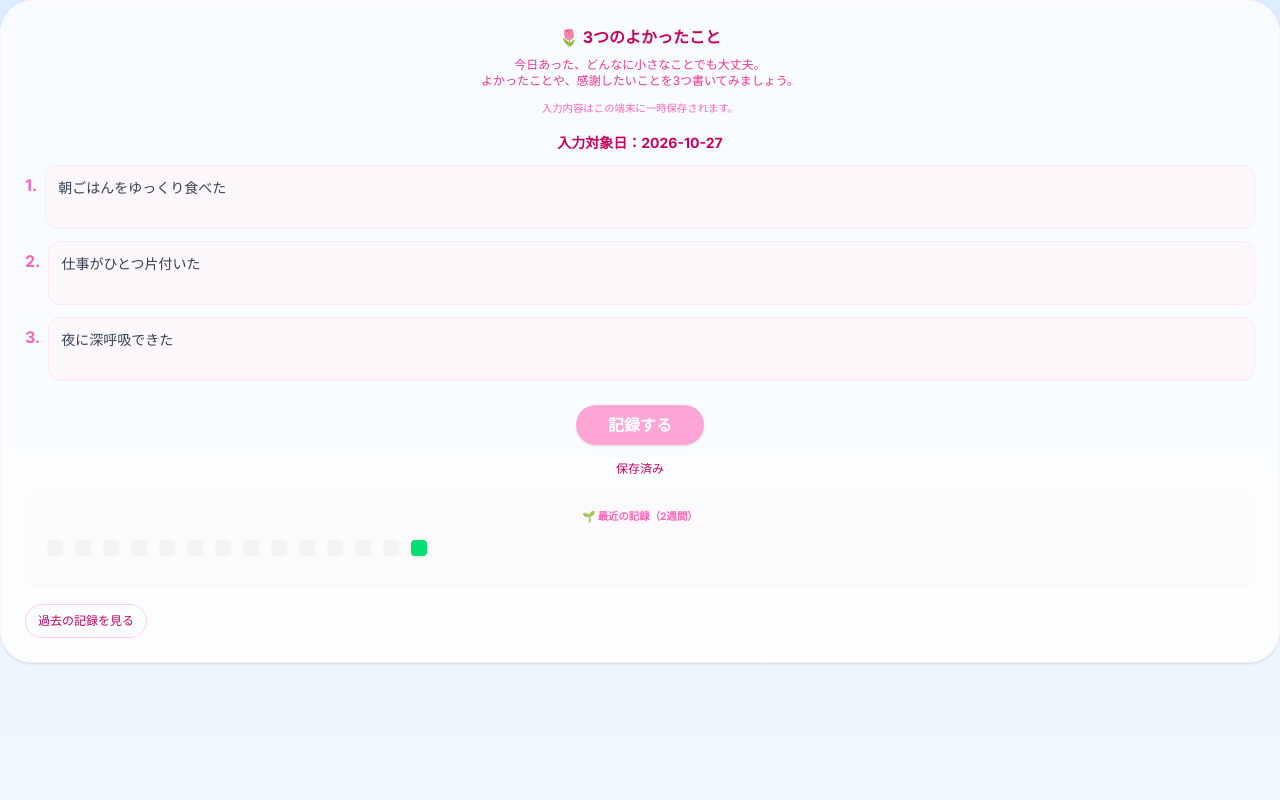
ThreeGoodThingsCard › 取得成功時に今日の記録を入力欄と詳細へ表示する
Expected: the text box named "1つ目のよかったこと" holds "朝ごはんをゆっくり食べた", [45,165,1255,229]
Expected: the text box named "2つ目のよかったこと" holds "仕事がひとつ片付いた", [48,241,1255,305]
Click the button named "2026-10-27、記録あり、詳細を開く". click: (419, 548)
box: [407,536,431,560]
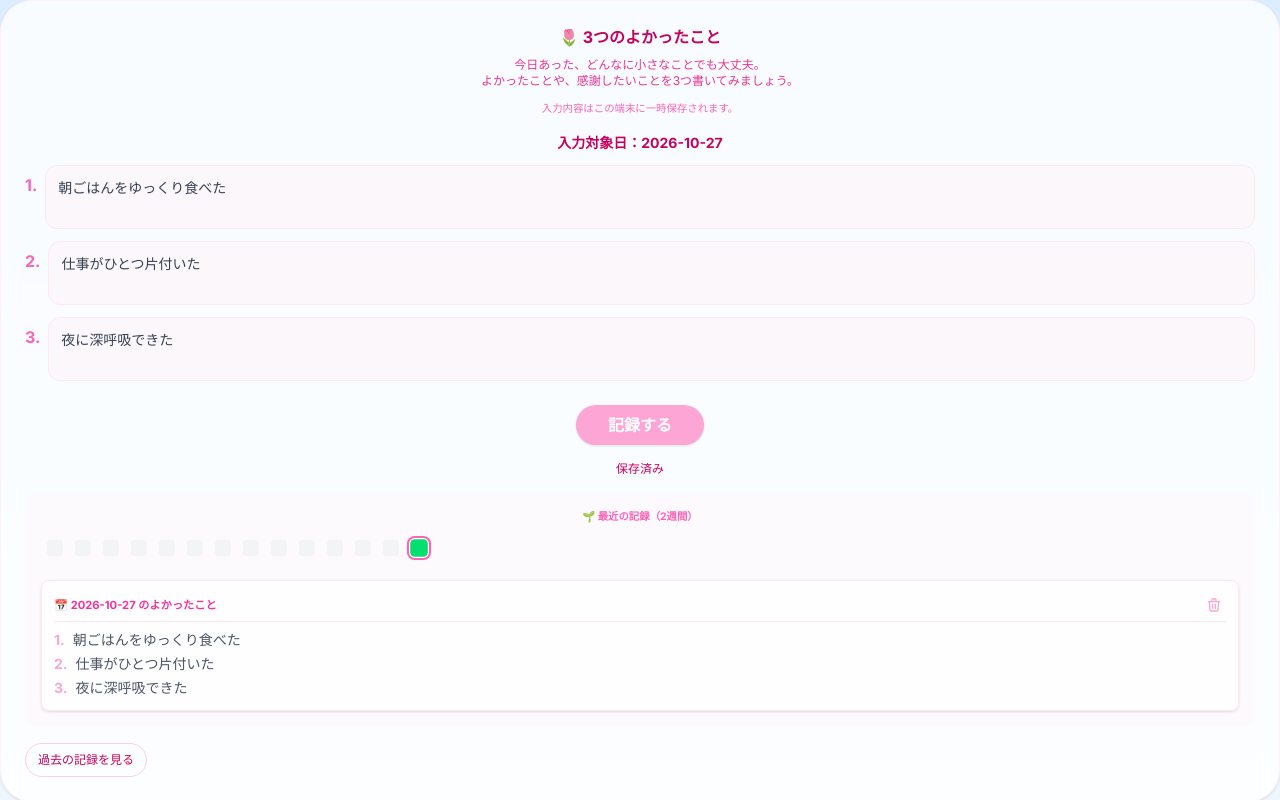
Now the number of list items is 3, box [54,631,241,648]; [54,655,214,672]; [54,679,187,696]
Now the list item "1. 朝ごはんをゆっくり食べた" is shown, box [54,631,241,648]
Now the list item "2. 仕事がひとつ片付いた" is shown, box [54,655,214,672]
